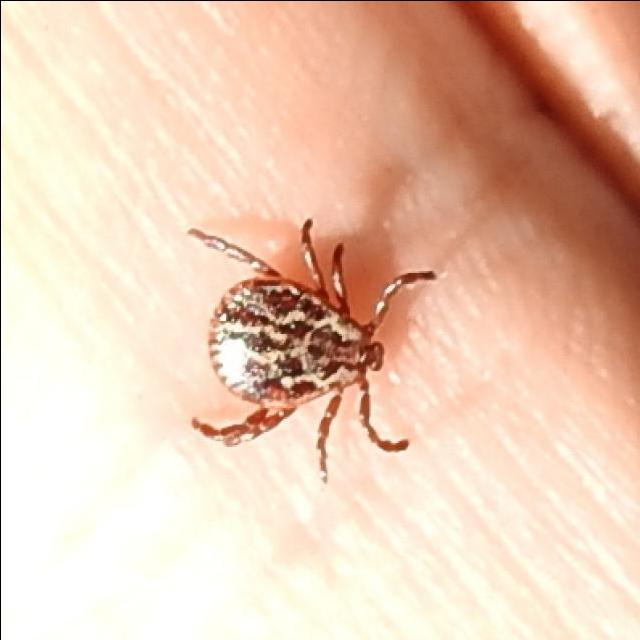Dermacentor Reticulatus-M: (190, 216, 437, 479)
